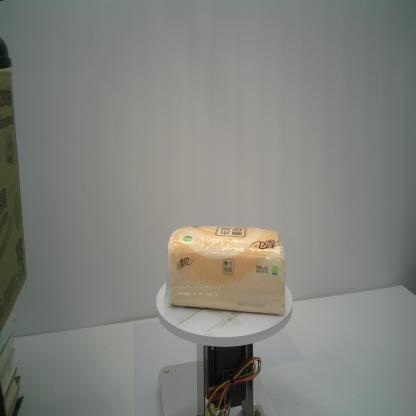Tissue: (163, 224, 287, 315)
